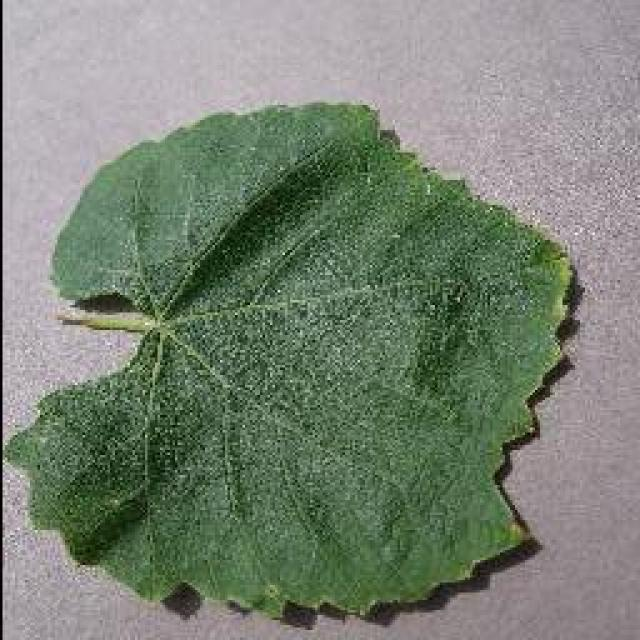Grape___healthy: (0, 95, 581, 625)
